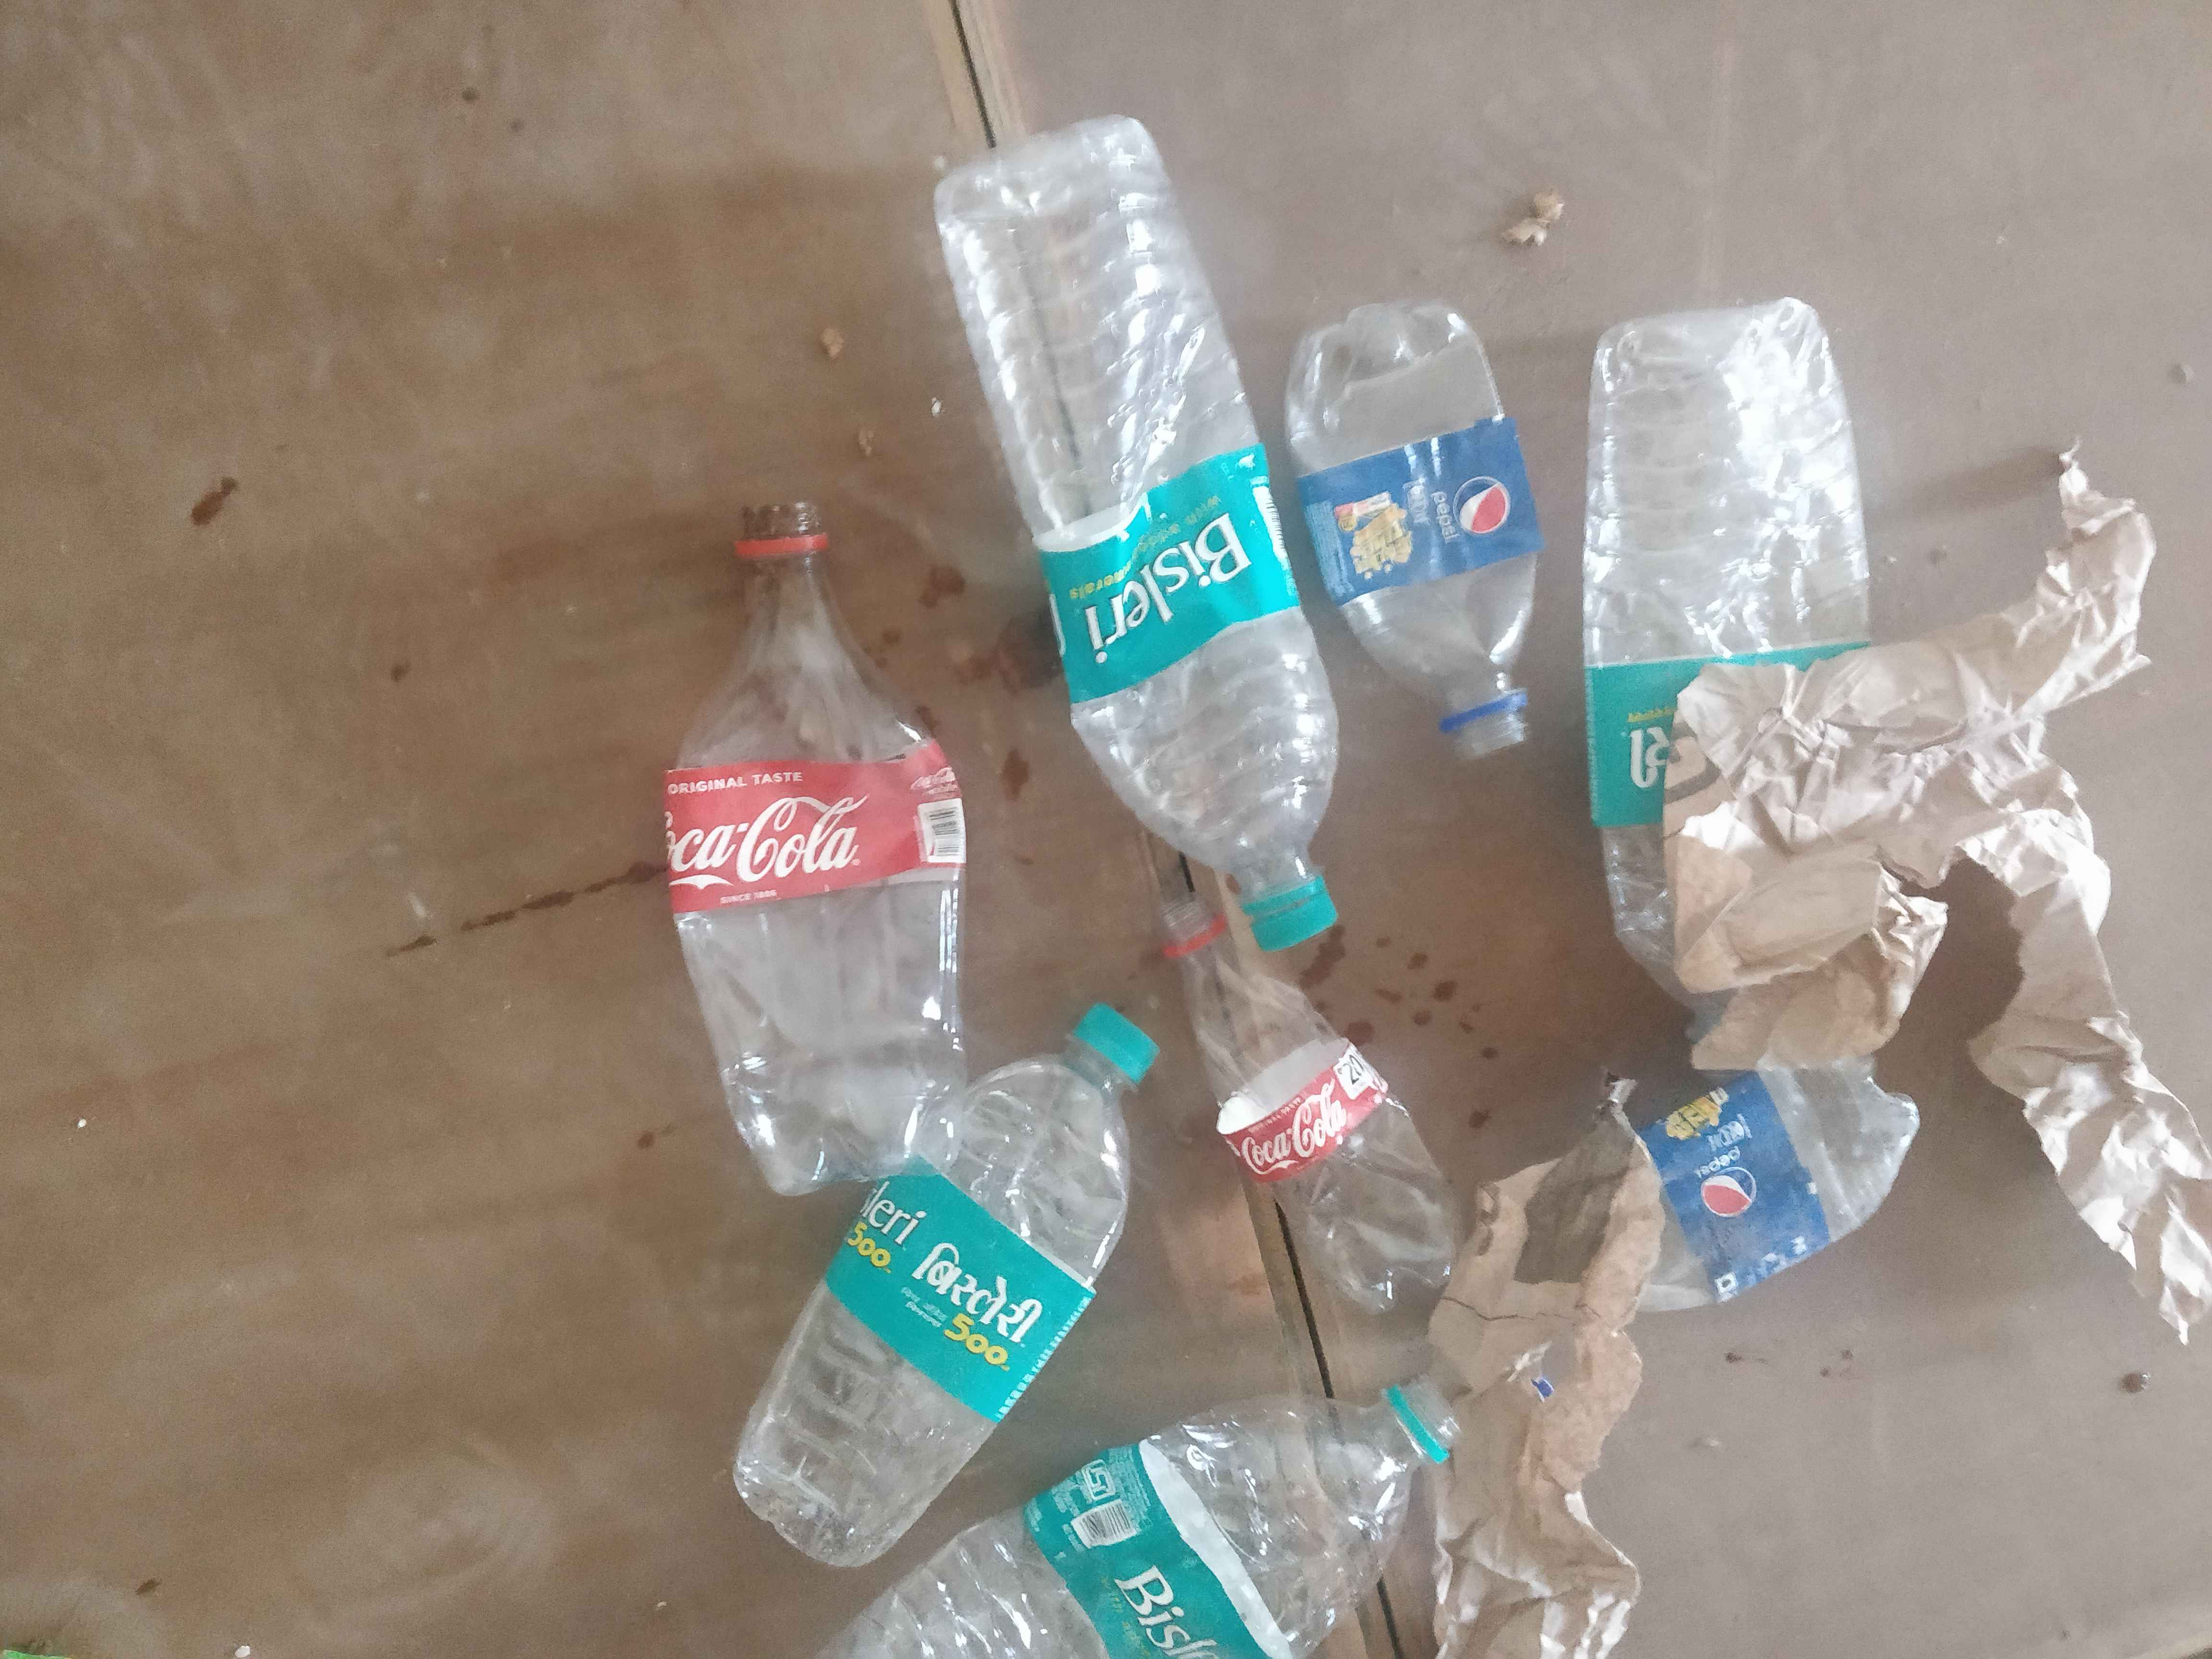Bisleri: (860, 1164, 1028, 1406), (1035, 1483, 1256, 1659), (1055, 532, 1327, 636), (1590, 659, 1691, 849)
Coca-Cola: (683, 765, 911, 901), (1252, 1091, 1348, 1185)
pepsi: (1677, 1098, 1818, 1270), (1318, 467, 1554, 551)
